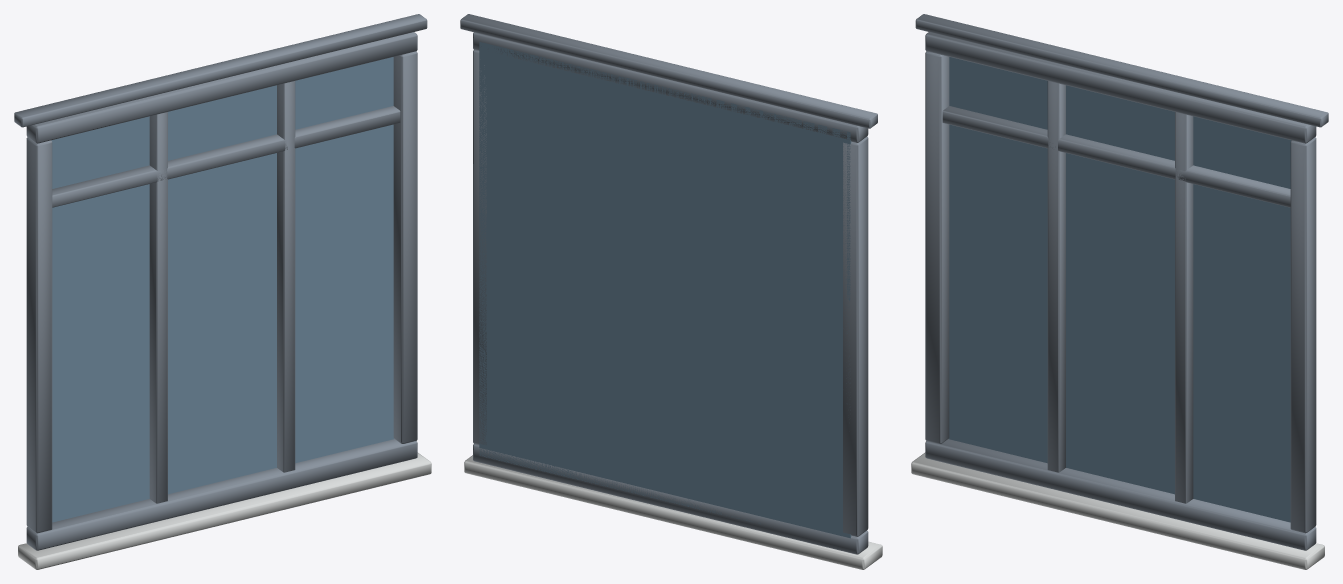
Rendered from window_office.glb.
3 renders of one model, left to right at view 1: azimuth 30°, elevation 25°; view 2: azimuth 150°, elevation 25°; view 3: azimuth 330°, elevation 25°, orthographic.
Visible parts, largest first — view 1: Body; view 2: Body; view 3: Body.
Boxes of the visible parts, x1,y1,x2,y2 form: Body: (14,14,431,569); Body: (460,14,882,569); Body: (911,14,1328,569).
Bounding box in the file's own units: 1.7 × 1.79 × 0.14.
